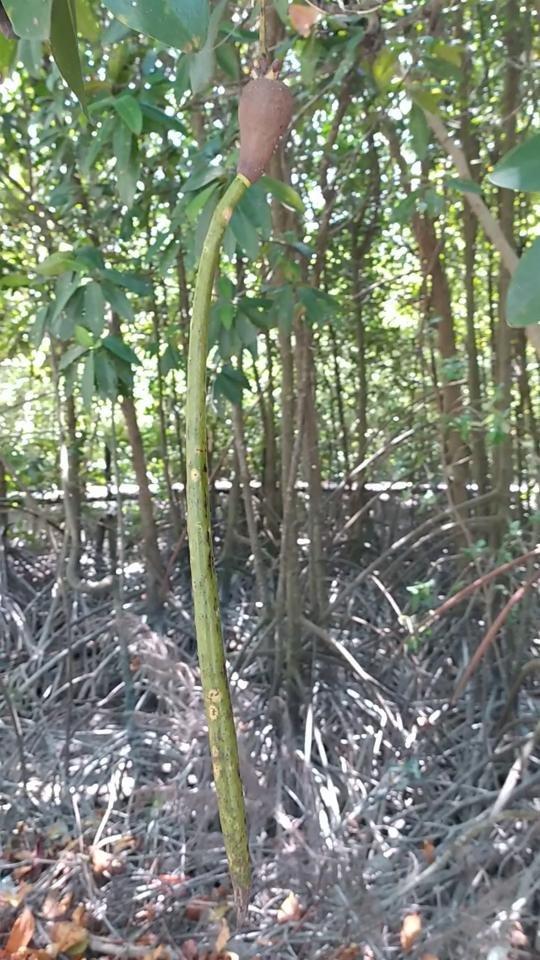setengah matang: (177, 52, 313, 910)
